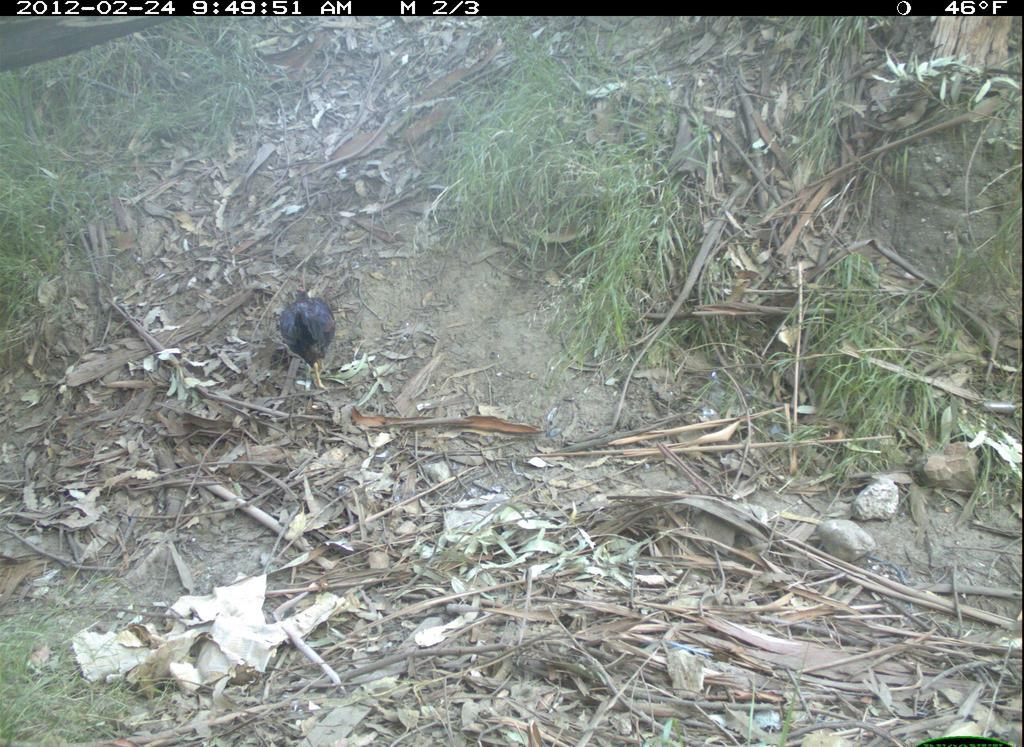bird: (274, 287, 344, 397)
